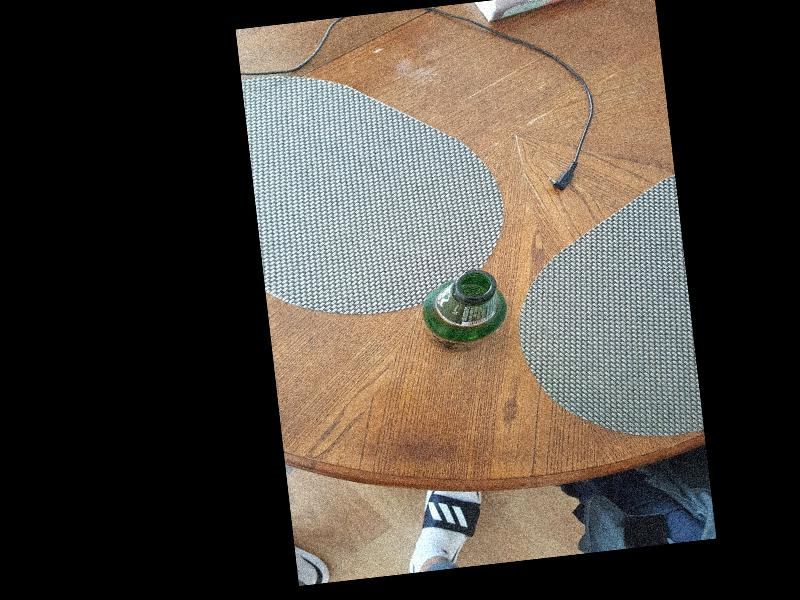Beer: (418, 267, 511, 354)
